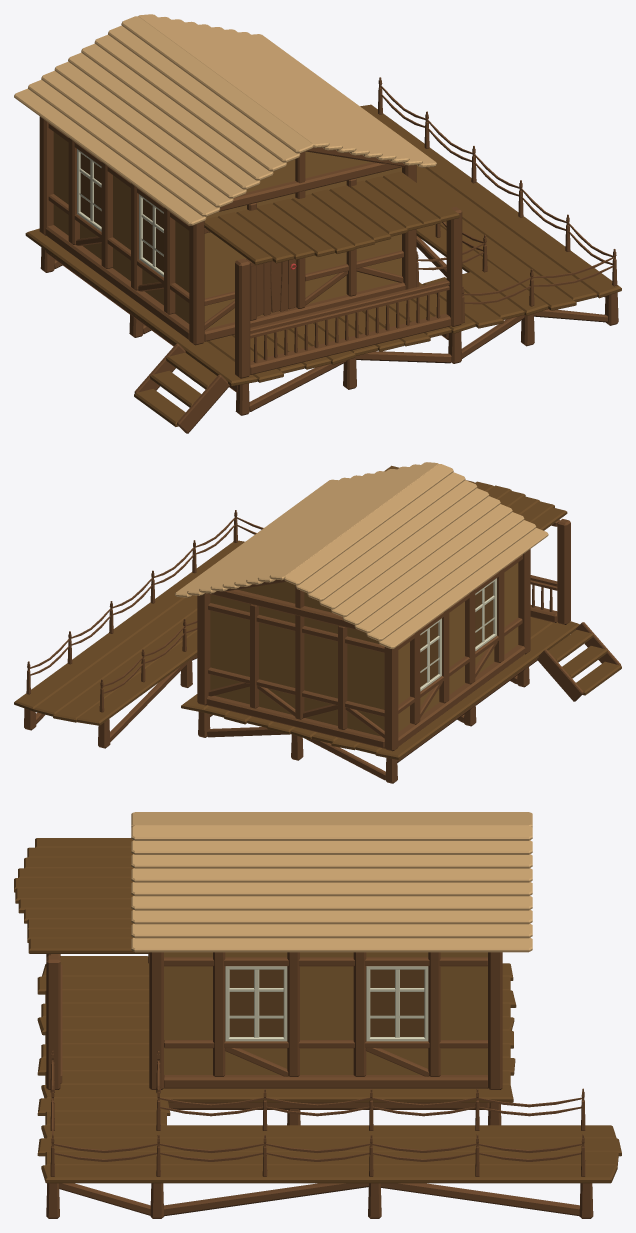
Rendered from farmstractures_12.gltf.
3 renders of one model, top to bottom at view 1: azimuth 30°, elevation 25°; view 2: azimuth 150°, elevation 25°; view 3: azimuth 270°, elevation 25°, orthographic. The views are drawn at different scales.
Parts seen in each view (by area): view 1: blades, body; view 2: blades, body; view 3: blades, body.
Boxes of the visible parts, x1=… form: blades: x1=14, y1=14, x2=457, y2=328; body: x1=14, y1=16, x2=621, y2=433; blades: x1=176, y1=462, x2=567, y2=736; body: x1=14, y1=463, x2=621, y2=783; blades: x1=14, y1=812, x2=531, y2=1075; body: x1=14, y1=813, x2=621, y2=1218.
Bounding box in the file's own units: 8.59 × 4.16 × 9.04.
1 material, 1 textured.
